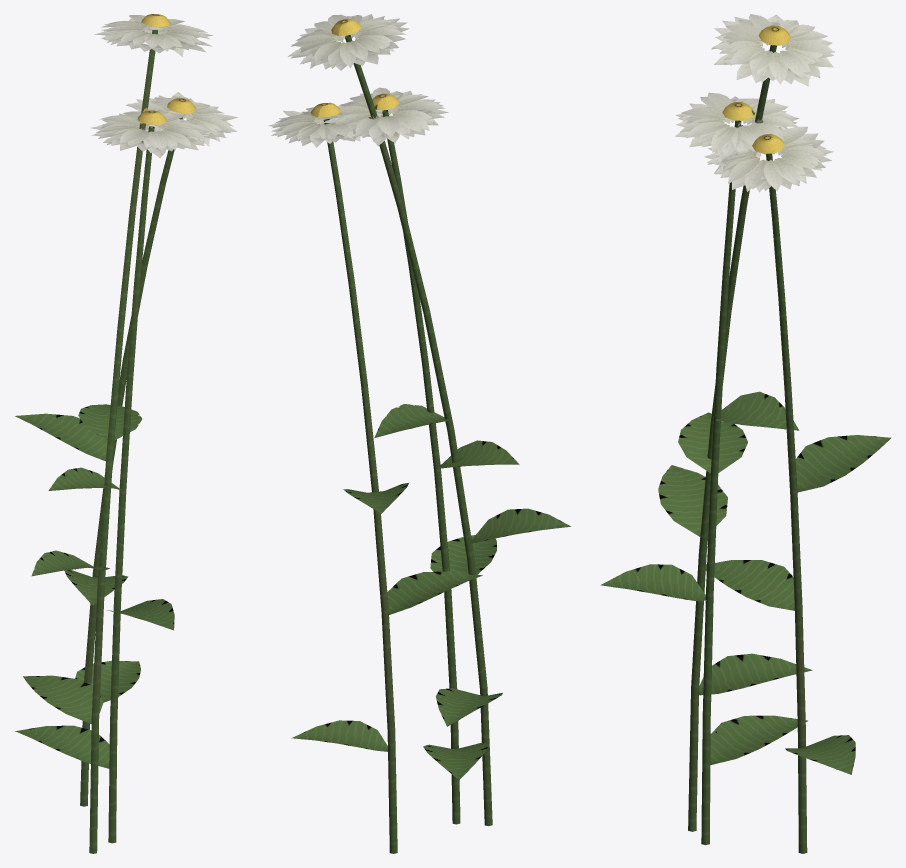
File: SM_Flora_Daisy.fbx
3 renders of one model, left to right at view 1: azimuth 30°, elevation 25°; view 2: azimuth 150°, elevation 25°; view 3: azimuth 270°, elevation 25°, orthographic. The views are drawn at different scales.
Visible parts, largest first — view 1: SM_Flora_Daisy; view 2: SM_Flora_Daisy; view 3: SM_Flora_Daisy.
Boxes of the visible parts, box(x1,y1,x2,y2) form: SM_Flora_Daisy: box(15, 14, 237, 853); SM_Flora_Daisy: box(268, 14, 570, 853); SM_Flora_Daisy: box(600, 14, 891, 853).
Bounding box in the file's own units: 13.94 × 13.24 × 42.8.
